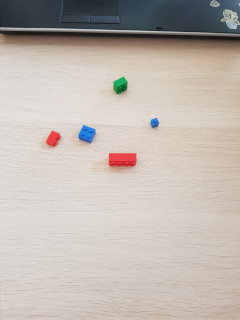1x1 blue: (150, 117, 161, 128)
1x2 red: (45, 130, 61, 148)
2x2 blue: (78, 124, 96, 143)
2x2 green: (111, 75, 128, 95)
2x4 red: (108, 153, 135, 167)
